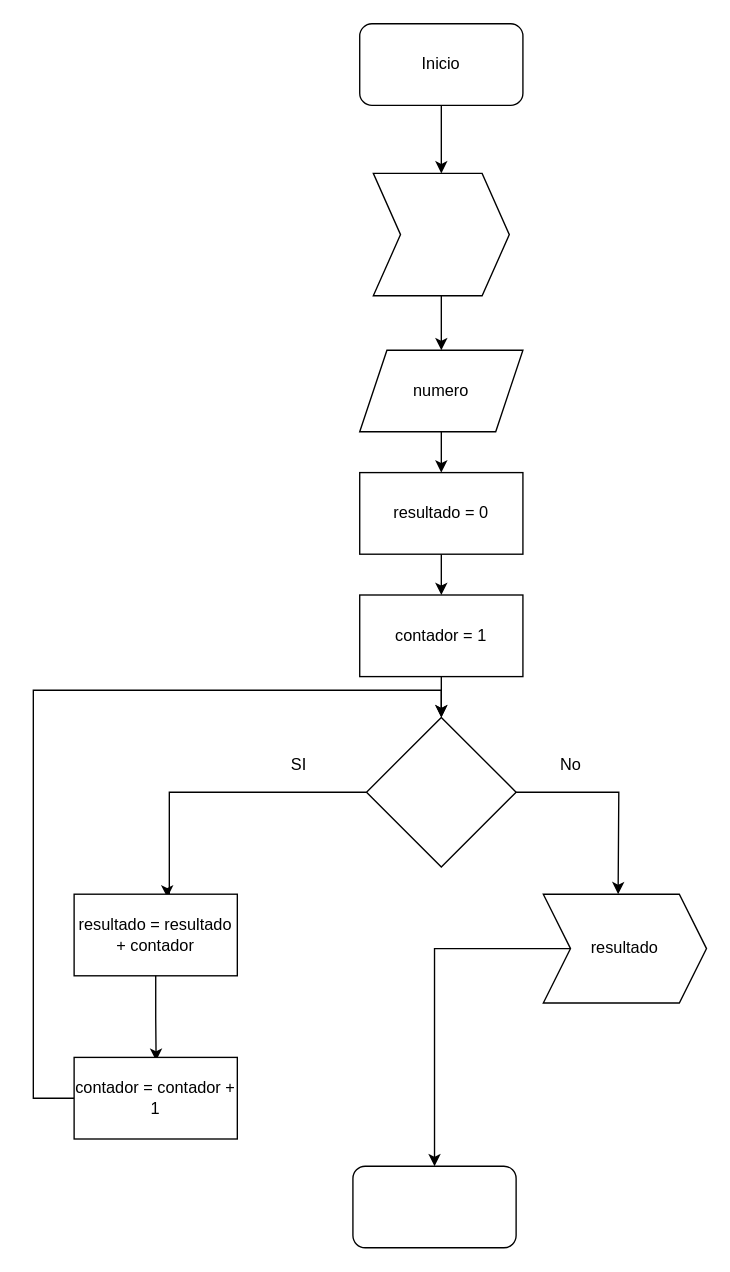
Image size: 730x1272. Some labels were removed from this diagram. The shapes that lost their labels are listed below. From the top down, each one's centre as x and y in pixels, then its label:
the point at 440,234: "Ingrese un numero"
the point at 440,791: contador <= numero
the point at 434,1206: Fin
